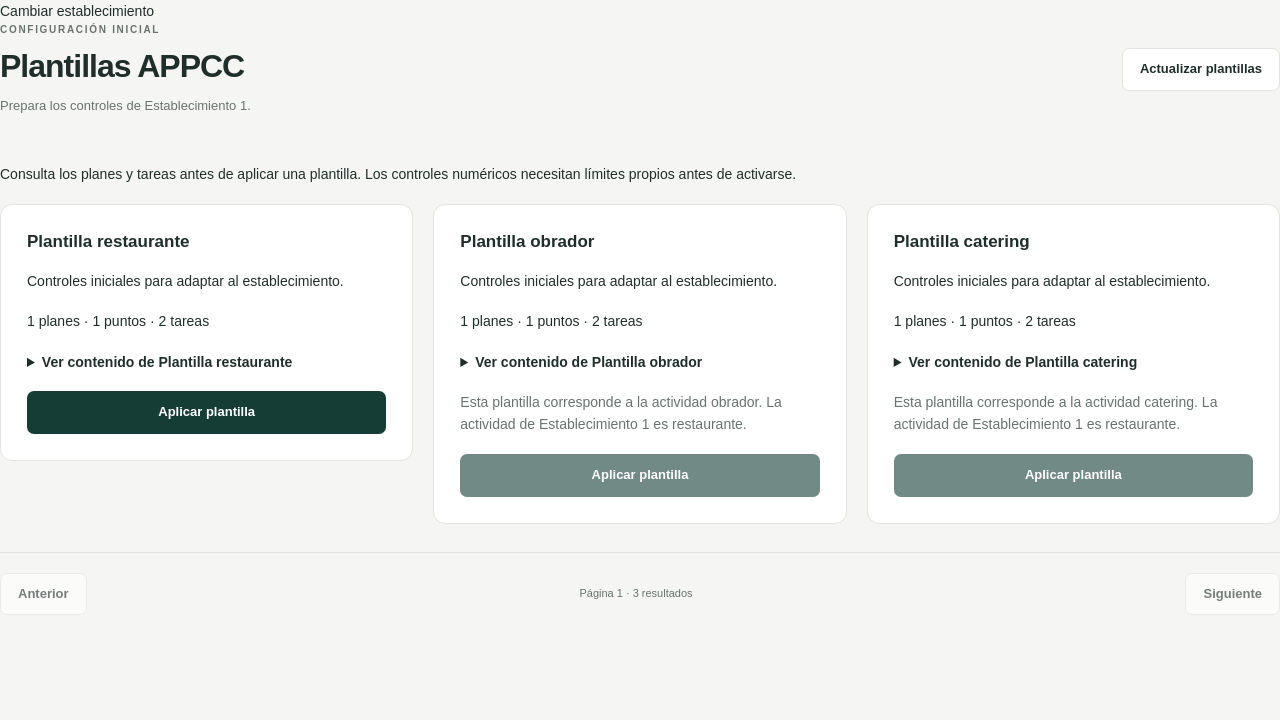
it: yaAplicada muestra la aplicación original y ningún duplicado
Click the button with aria-label "Aplicar Plantilla restaurante". click: (207,412)
box: [27, 391, 386, 434]
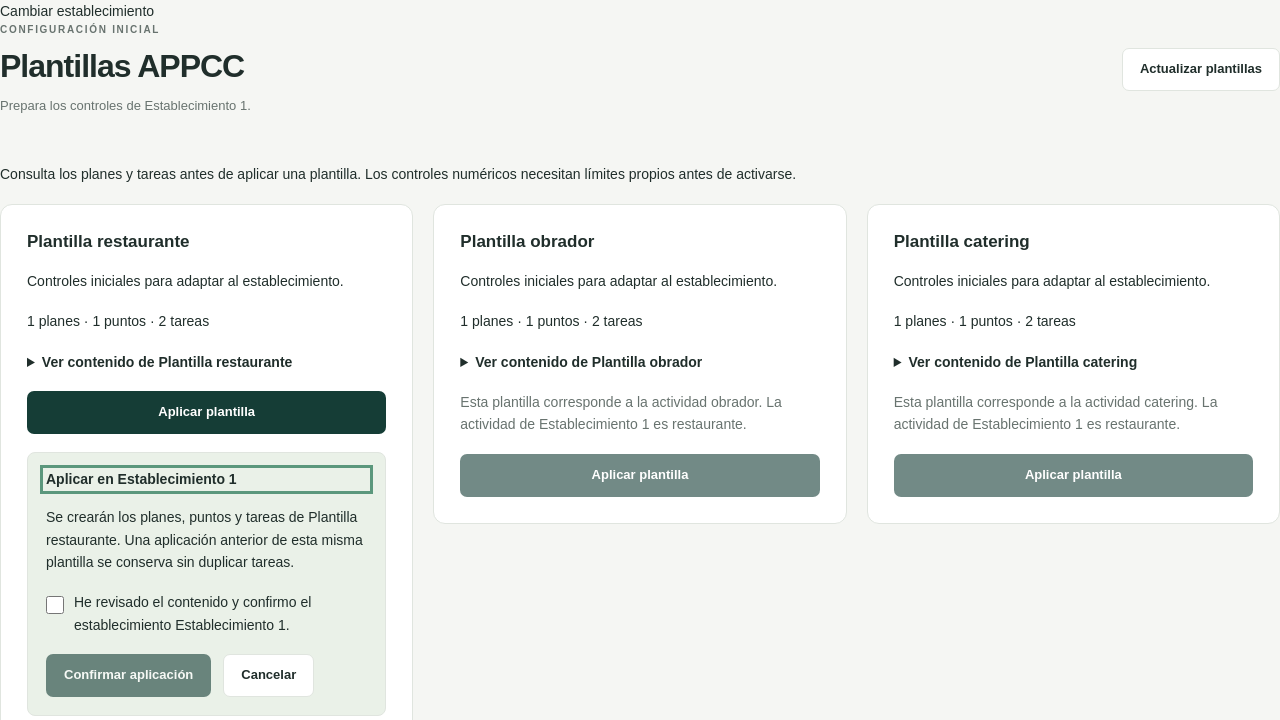
Click the checkbox labelled "He revisado". click: (55,606)
box: [46, 596, 64, 614]
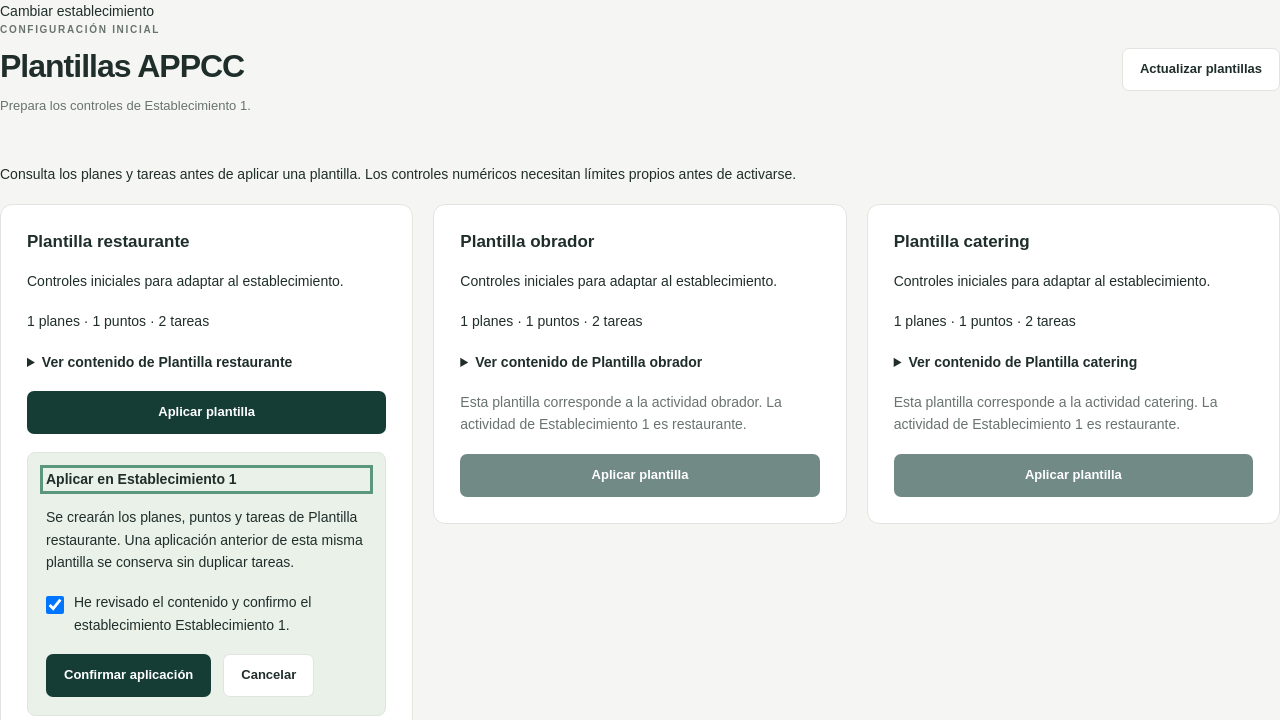
Click the button "Confirmar aplicación". click: (129,676)
box: [46, 654, 211, 697]
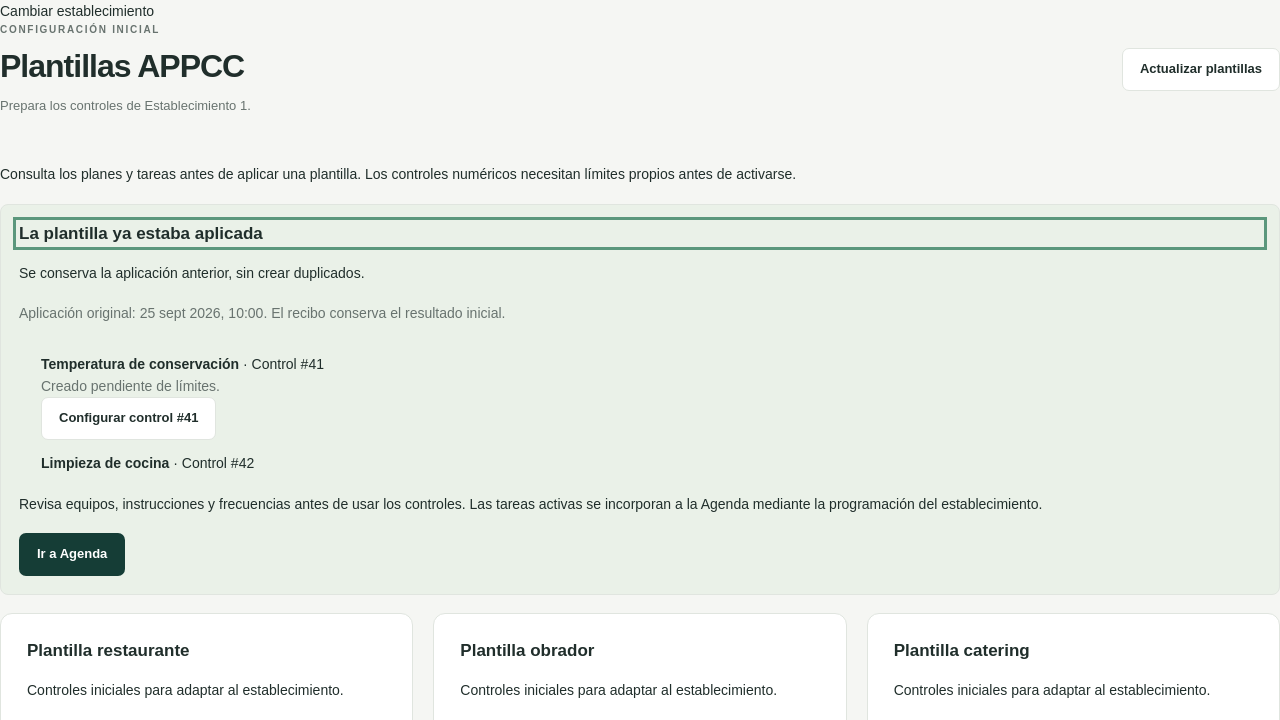
Now the heading "La plantilla ya estaba aplicada" is shown, box [19, 224, 263, 243]
Now the text "Se conserva la aplicación anterior, sin crear duplicados." is shown, box [19, 265, 364, 281]
